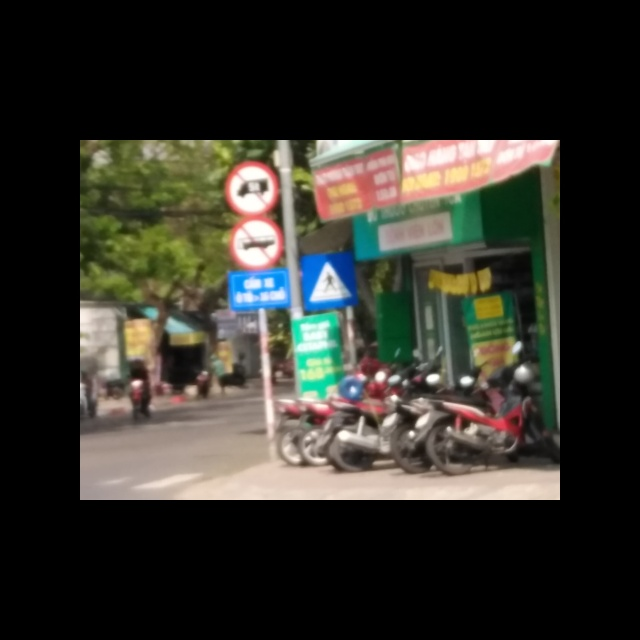Cấm xe tải: (223, 159, 280, 216)
Cấm xe xe khách: (230, 218, 283, 271)
Đường dành cho người đi bộ: (300, 251, 358, 310)
